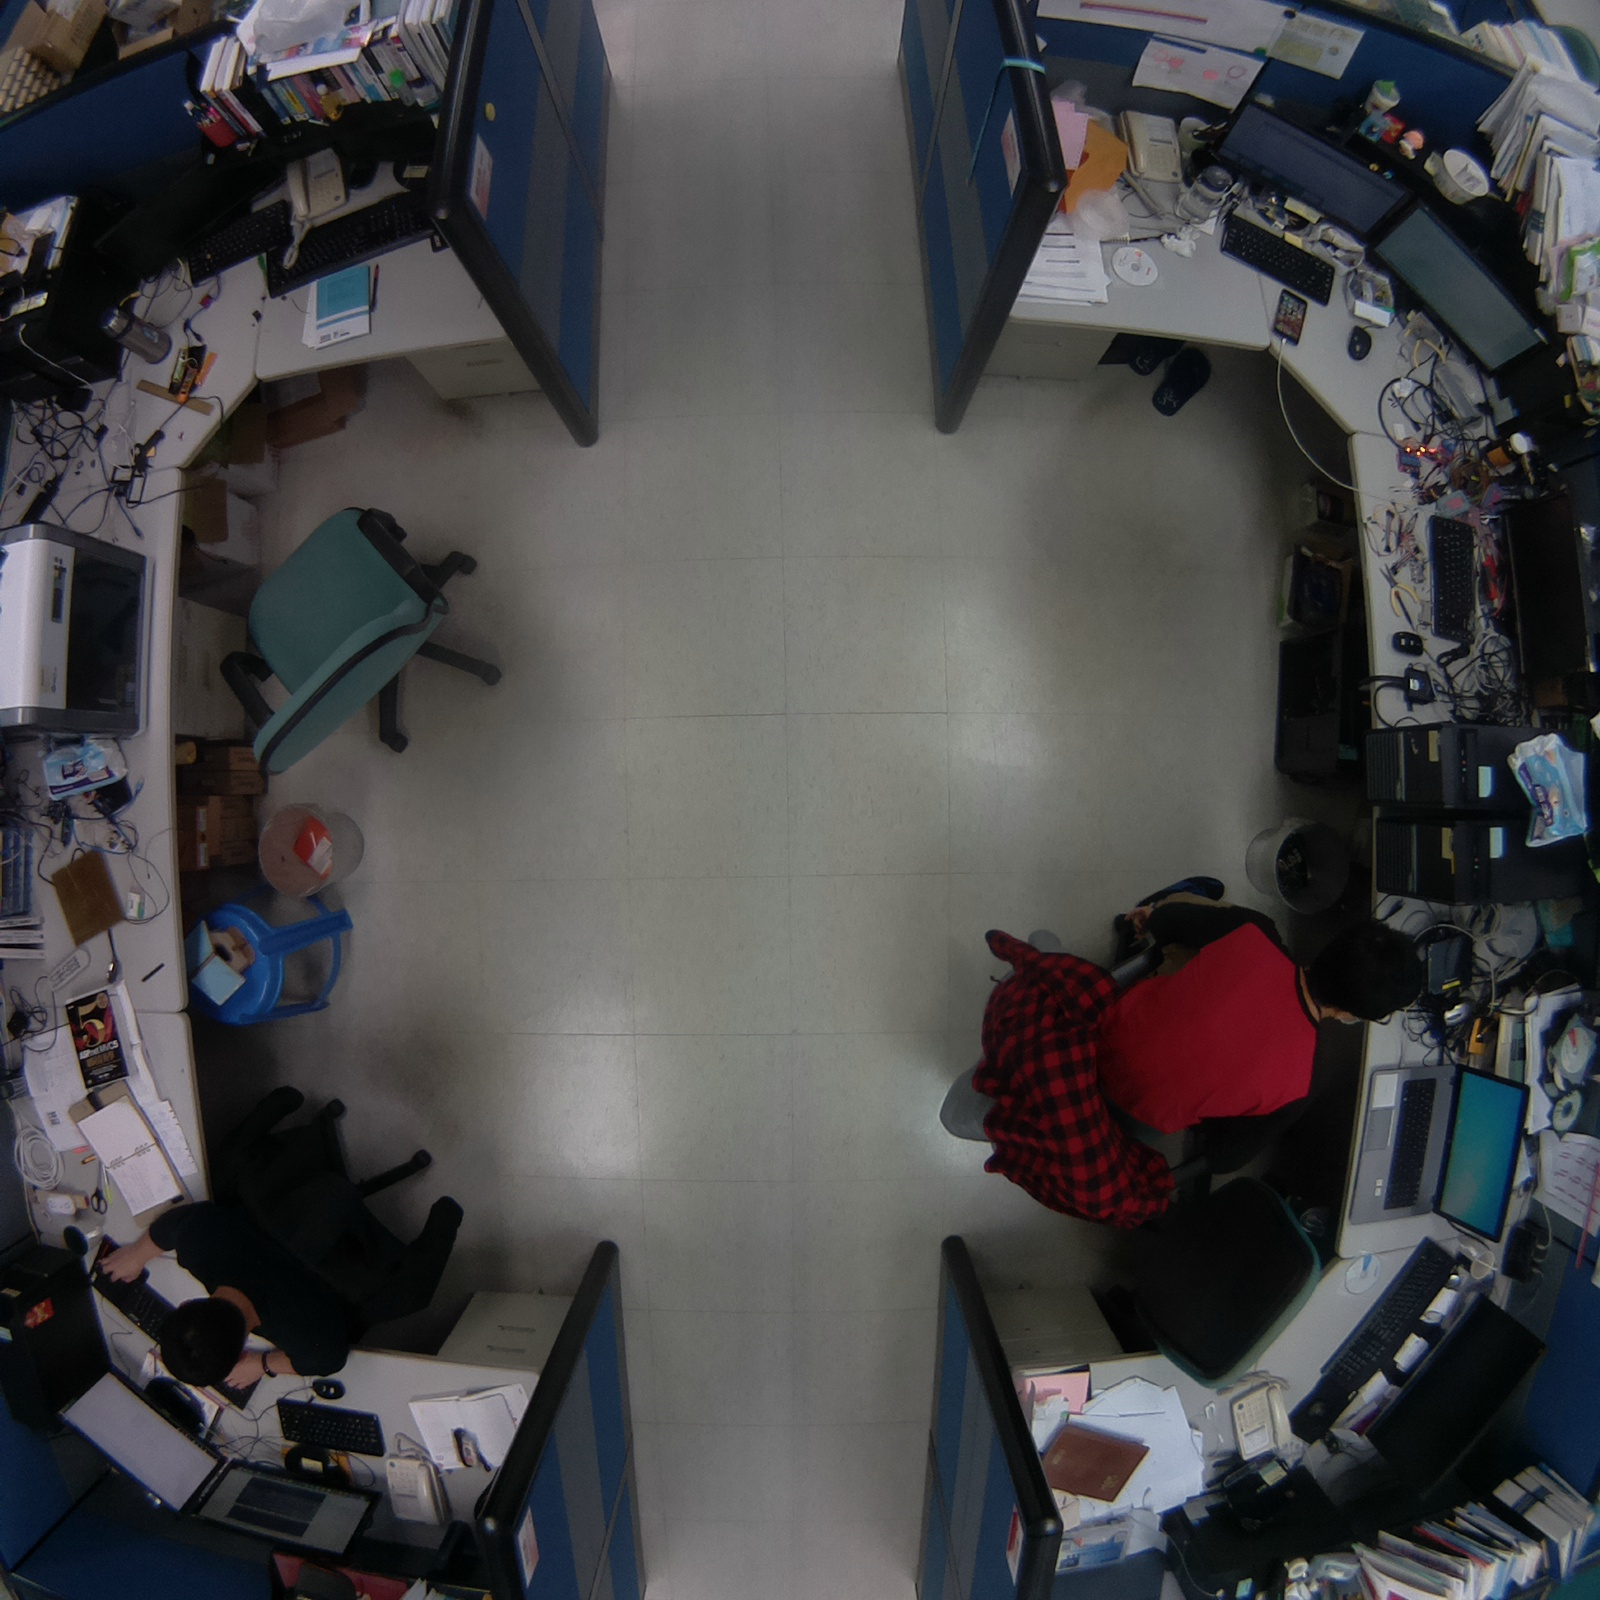chair: (217, 483, 527, 793), (1083, 1181, 1340, 1409)
head: (1302, 908, 1429, 1029), (153, 1291, 251, 1393)
sitting: (927, 861, 1428, 1245), (107, 1070, 488, 1409)
